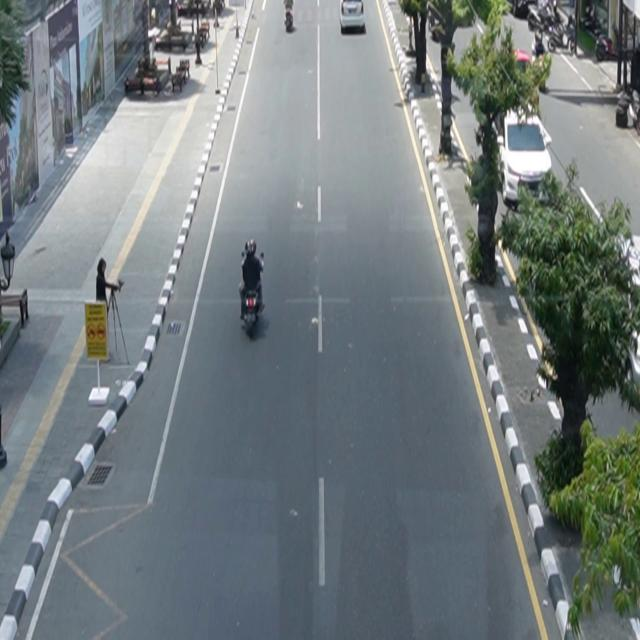car: (341, 1, 367, 34)
